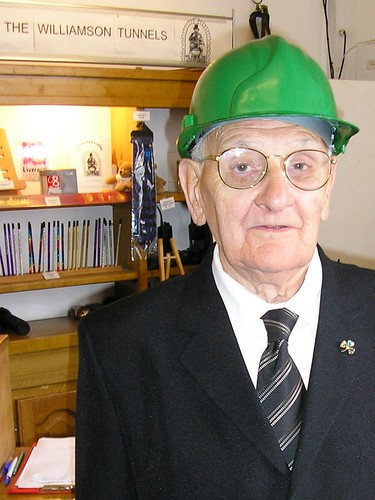person hardhat: (83, 37, 375, 500)
